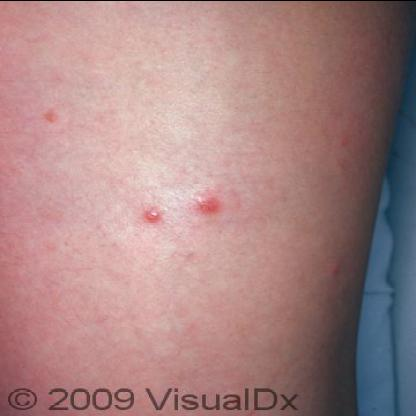Bed Bug: (186, 188, 223, 218), (334, 131, 354, 173), (38, 104, 64, 132), (139, 202, 168, 226), (320, 258, 350, 279)
